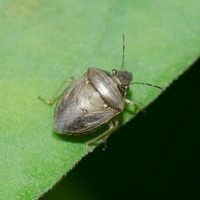insect: (38, 33, 161, 152)
